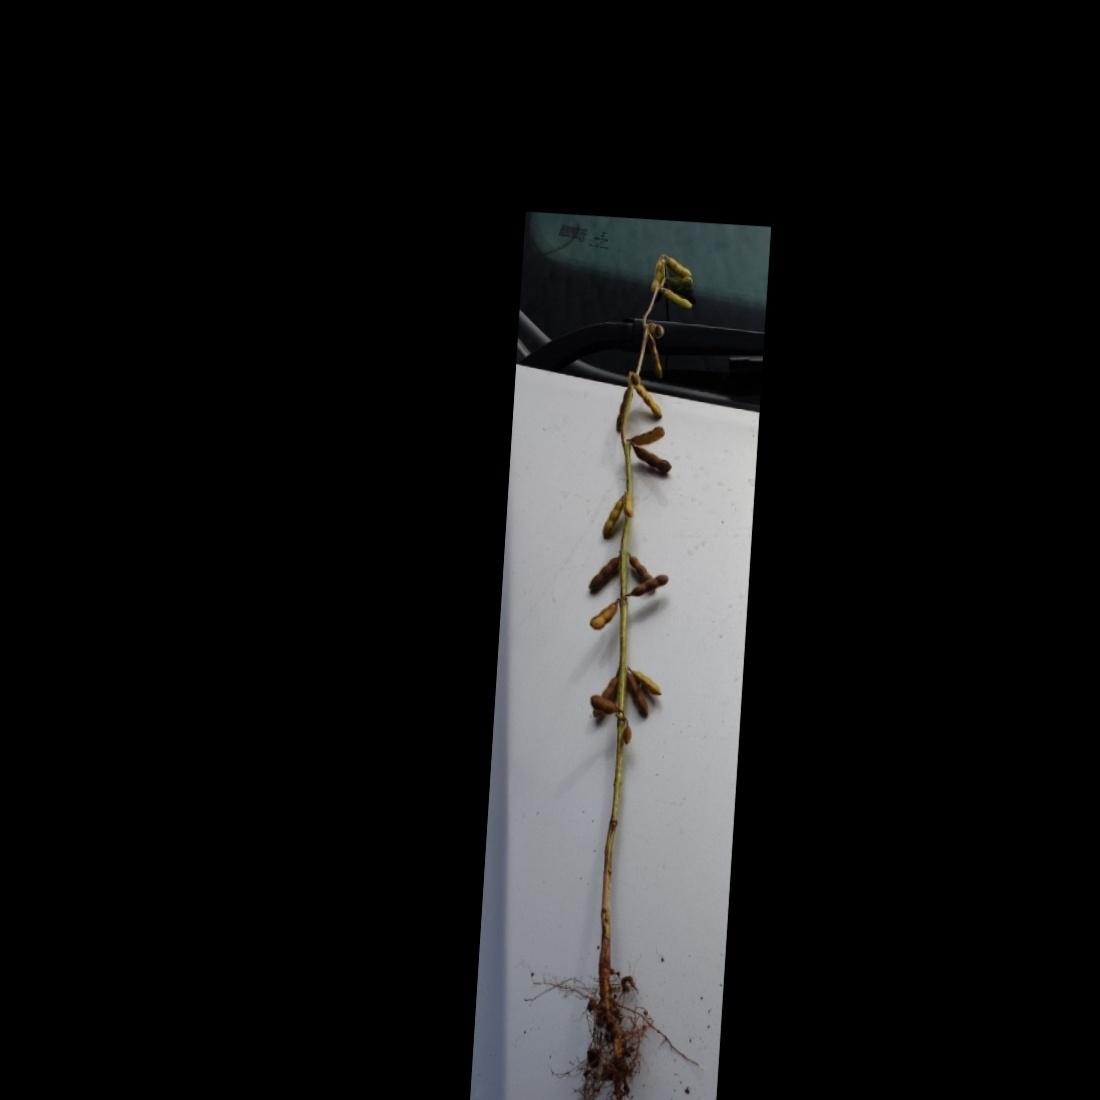pod: (625, 378, 666, 423), (625, 441, 676, 476), (621, 670, 653, 721), (625, 567, 671, 602), (586, 550, 622, 594), (598, 492, 627, 545), (639, 330, 667, 381), (624, 667, 665, 697), (656, 252, 696, 282), (585, 599, 622, 633), (655, 284, 695, 311)
soy: (541, 241, 738, 1100)
